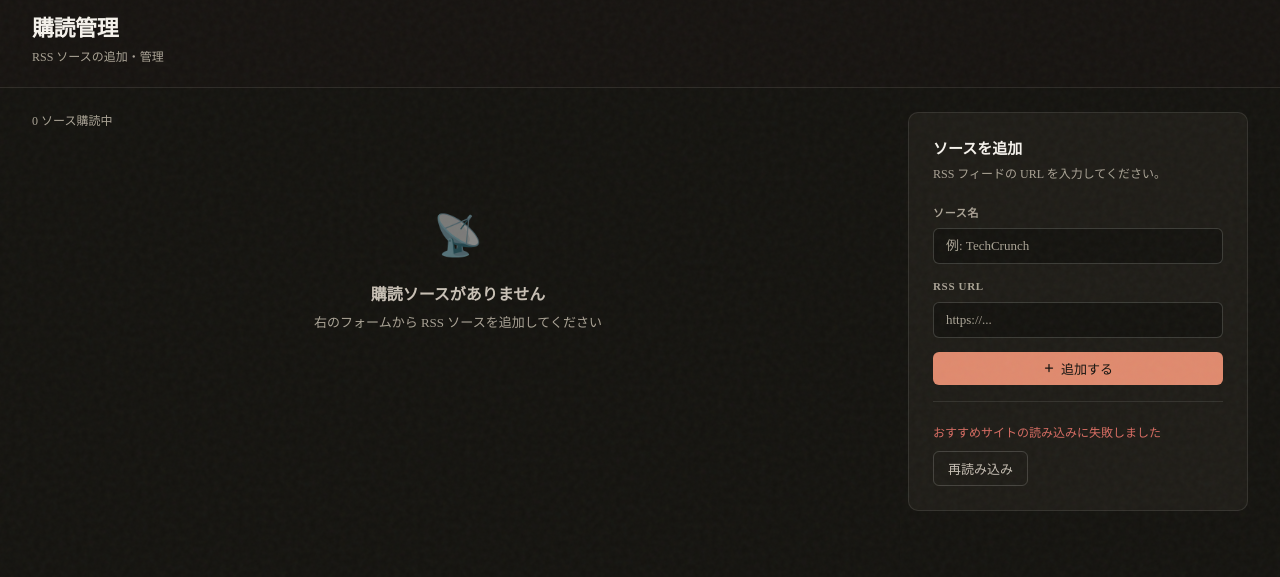
Scenario: SubscriptionsPage — recommended sources › Given reload button clicked after getFeaturedSources failure, refetches and shows recommendations on success
The image size is (1280, 577).
Click the button with aria-label "おすすめサイトを再読み込み" at (980, 468), box x1=933 y1=451 x2=1028 y2=486
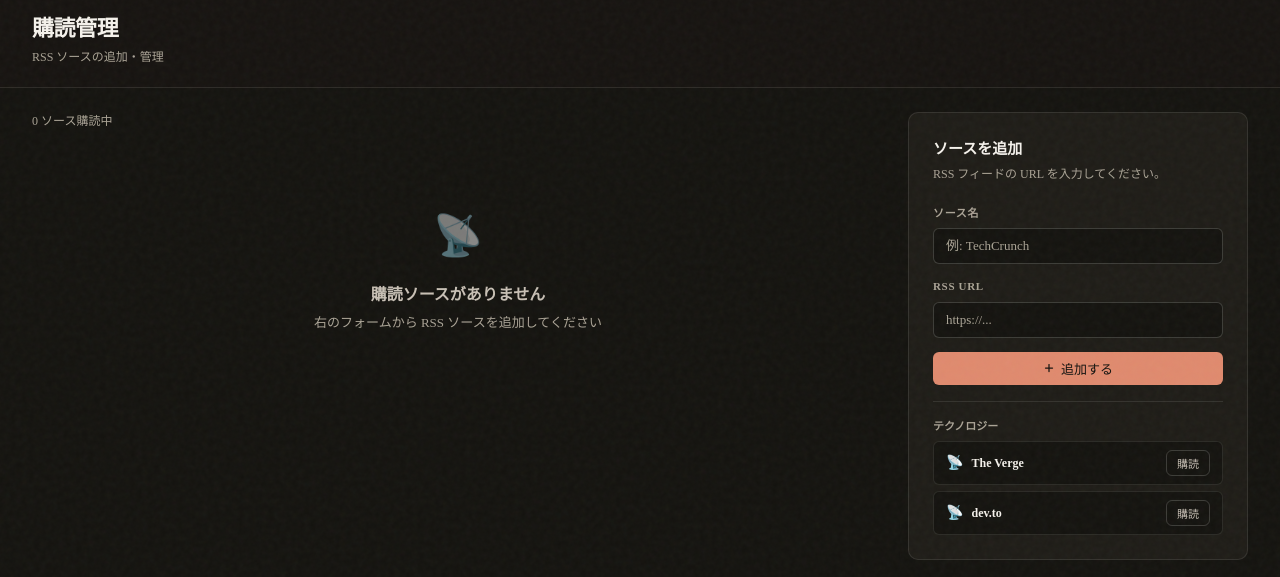
Now the button with aria-label "The Verge を購読" is shown, box x1=1166 y1=450 x2=1210 y2=476
Now the text "おすすめサイトの読み込みに失敗しました" is gone
